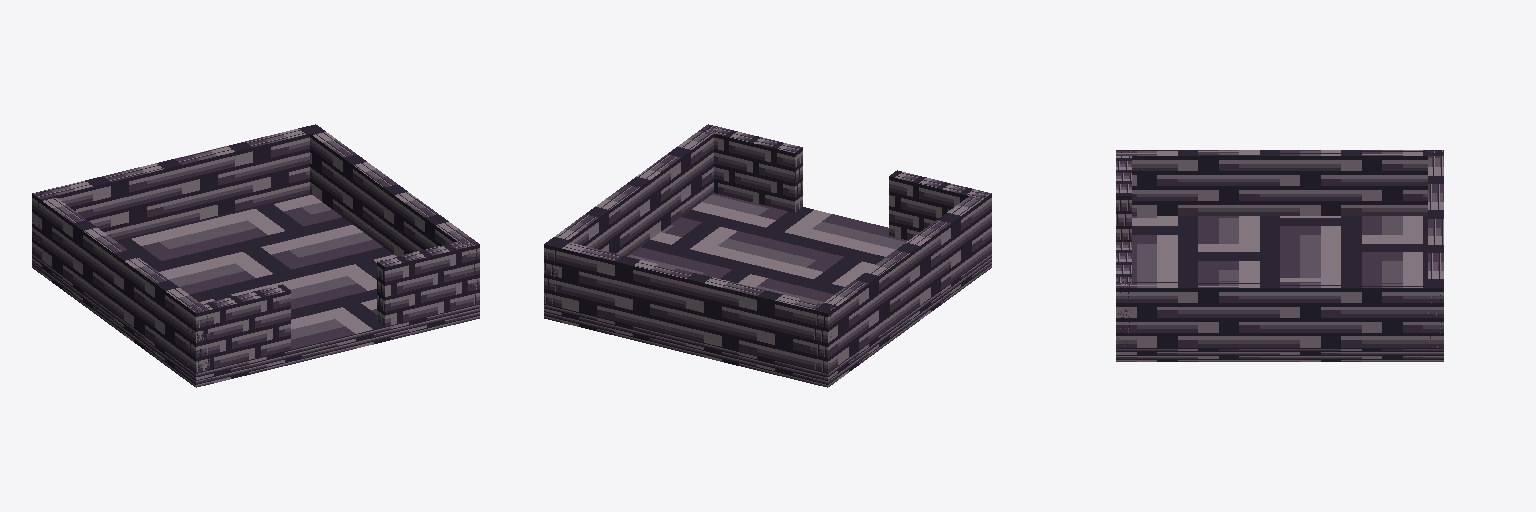
The picture shows the model from 3 angles: view 1: azimuth 30°, elevation 25°; view 2: azimuth 150°, elevation 25°; view 3: azimuth 270°, elevation 25°; orthographic projection.
Parts seen in each view (by area): view 1: cube; view 2: cube; view 3: cube.
Boxes of the visible parts, <box> form: cube: <box>32,124,479,387</box>; cube: <box>544,124,991,387</box>; cube: <box>1116,150,1443,361</box>.
Size of the model in its own units: 20 by 5 by 20.
Materials: 1 (1 with a texture image).